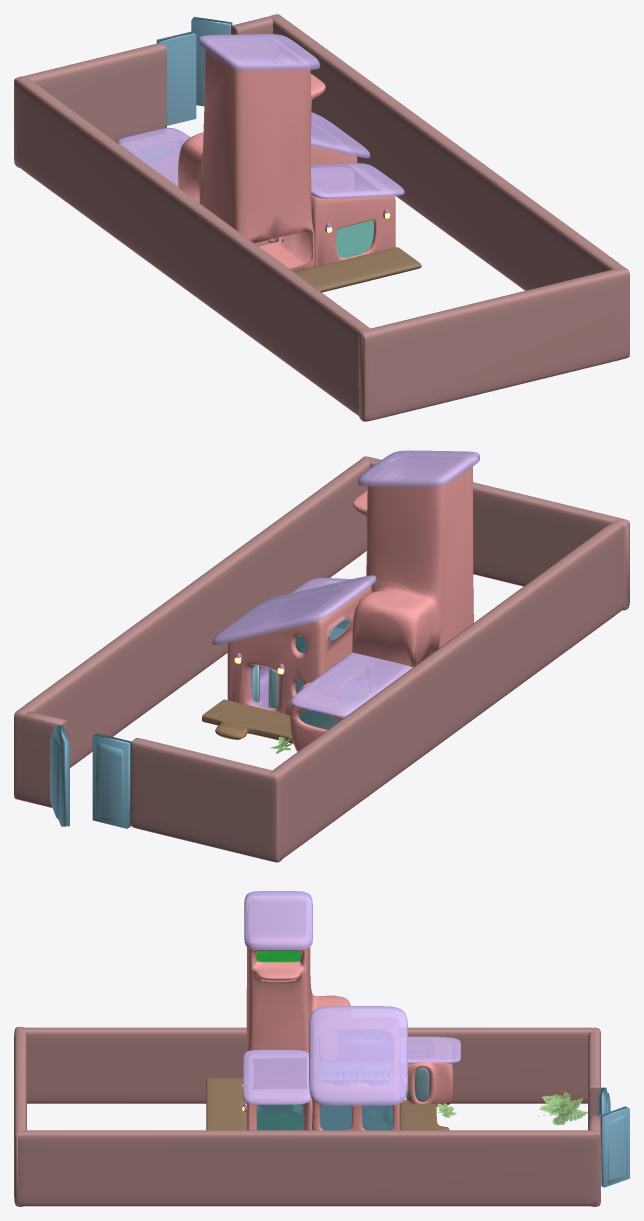
The model's file is casita_chiriii2.glb.
The picture shows the model from 3 angles, top to bottom: view 1: azimuth 30°, elevation 25°; view 2: azimuth 150°, elevation 25°; view 3: azimuth 270°, elevation 25°; orthographic projection. The views are drawn at different scales.
Parts seen in each view (by area): view 1: Cube.031, Cube.029, Cube.030, TORRE casa, Cube.033, TORRE casa.001, Cube.003, TECHO casa 4, TECHO casa 4.001, Cube.014, TECHO casa 2, Cube.021 (+9 smaller); view 2: Cube.031, Cube.030, TORRE casa, Cube.033, Cube.029, casa_salon, TORRE casa.001, TECHO casa 1, TECHO casa 1.001, TECHO casa 3, TECHO casa 3.001, Cube.032 (+7 smaller); view 3: Cube.030, Cube.031, TECHO casa 1, TECHO casa 1.001, TORRE casa, TECHO casa 4, TECHO casa 4.001, TECHO casa 2, TECHO casa 2.001, Cube.034, Cube.014, TORRE casa.001 (+19 smaller).
Part boxes in pixels (x1,y1,x2,y2): Cube.031: [14, 76, 369, 415]; Cube.029: [358, 267, 629, 421]; Cube.030: [270, 14, 623, 290]; TORRE casa: [177, 50, 325, 271]; Cube.033: [14, 43, 166, 167]; TORRE casa.001: [178, 50, 324, 271]; Cube.003: [278, 194, 395, 266]; TECHO casa 4: [198, 34, 319, 70]; TECHO casa 4.001: [198, 34, 319, 70]; Cube.014: [294, 247, 421, 292]; TECHO casa 2: [311, 163, 404, 198]; Cube.021: [156, 31, 196, 125]; Cube.031: [269, 520, 623, 859]; Cube.030: [16, 458, 370, 767]; TORRE casa: [352, 466, 473, 667]; Cube.033: [131, 738, 282, 862]; Cube.029: [360, 456, 629, 610]; casa_salon: [227, 586, 371, 715]; TORRE casa.001: [352, 468, 473, 666]; TECHO casa 1: [212, 575, 376, 644]; TECHO casa 1.001: [212, 575, 376, 644]; TECHO casa 3: [291, 653, 411, 716]; TECHO casa 3.001: [291, 653, 411, 716]; Cube.032: [14, 709, 67, 807]; Cube.030: [18, 1130, 598, 1206]; Cube.031: [21, 1027, 598, 1103]; TECHO casa 1: [309, 1006, 407, 1105]; TECHO casa 1.001: [309, 1006, 407, 1105]; TORRE casa: [246, 947, 350, 1052]; TECHO casa 4: [244, 891, 312, 949]; TECHO casa 4.001: [244, 891, 312, 949]; TECHO casa 2: [242, 1049, 311, 1104]; TECHO casa 2.001: [242, 1049, 310, 1104]; Cube.034: [599, 1106, 629, 1187]; Cube.014: [206, 1078, 246, 1130]; TORRE casa.001: [246, 948, 348, 1052].
Size of what is drawn, in the model's own units: 33.69 by 31.83 by 81.13.
Materials: 10 (5 with a texture image).
